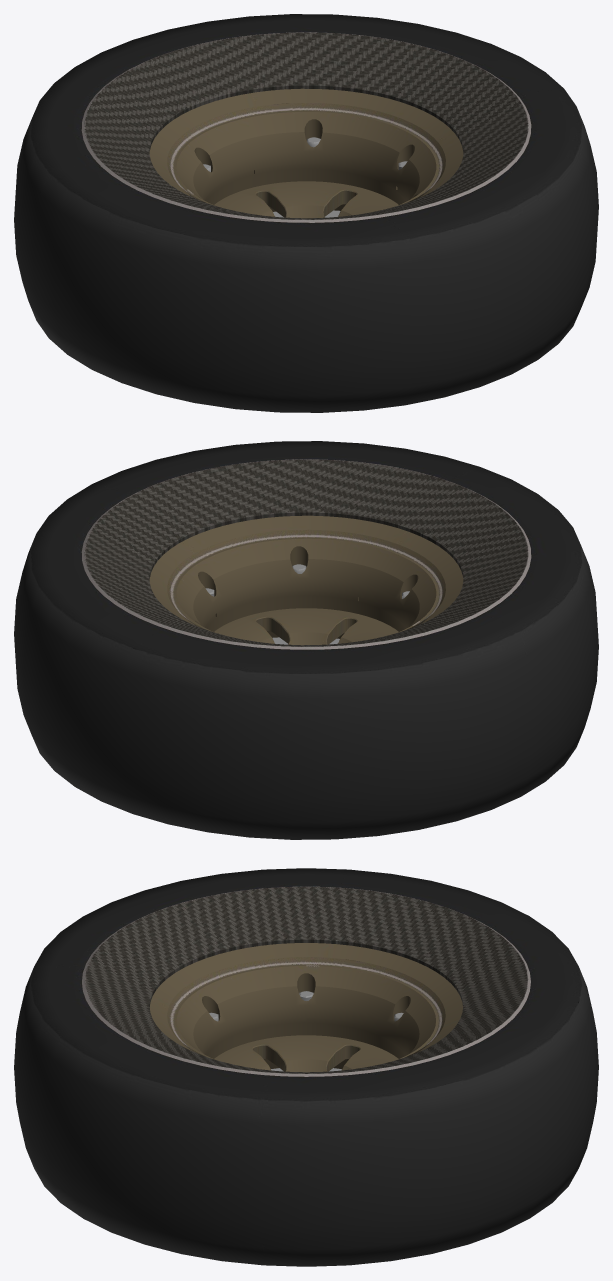
File: fl_wheel.gltf
3 views of the same model, one above another, from view 1: azimuth 30°, elevation 25°; view 2: azimuth 150°, elevation 25°; view 3: azimuth 270°, elevation 25° (orthographic).
Visible parts, largest first — view 1: fl_wheel; view 2: fl_wheel; view 3: fl_wheel.
Part boxes in pixels (x1=…): fl_wheel: x1=14, y1=14, x2=598, y2=412; fl_wheel: x1=14, y1=441, x2=598, y2=839; fl_wheel: x1=14, y1=868, x2=598, y2=1266.
Bounding box in the file's own units: 0.7222 × 0.2317 × 0.7222.
Materials: 2 (2 with a texture image).
